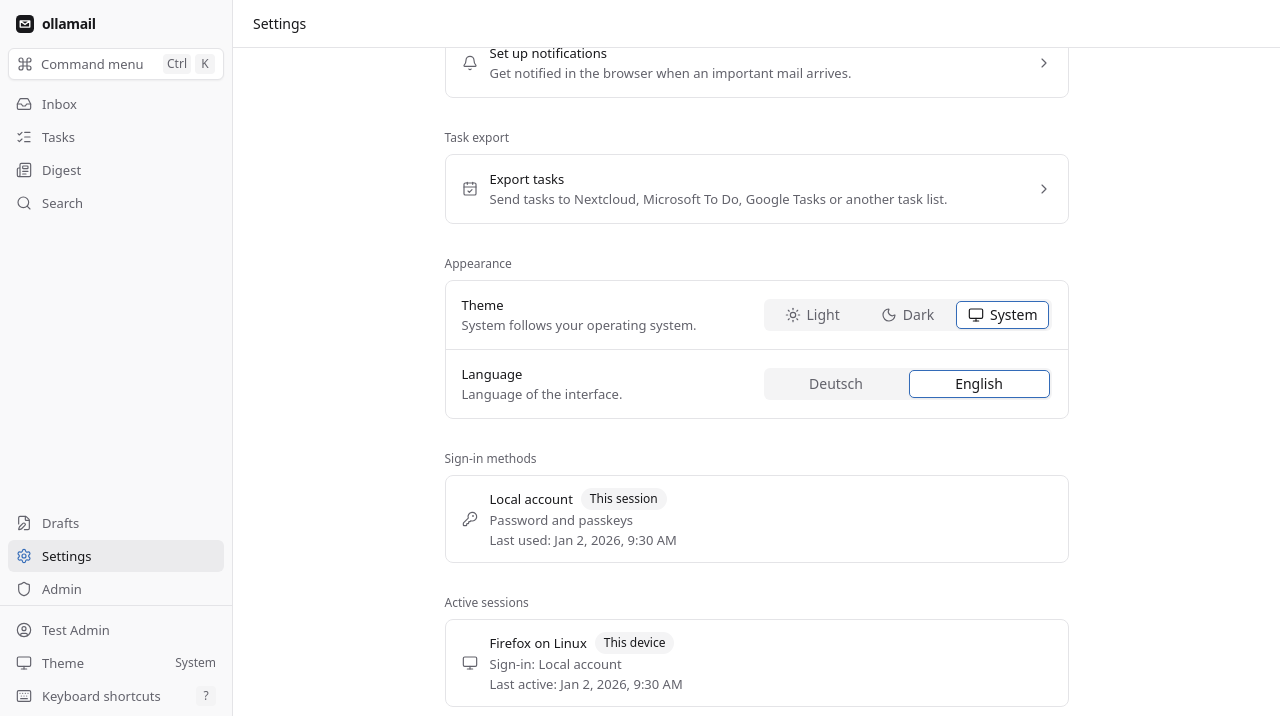
Test case: app shell › switches the language
(page scrolled)
Expected: the heading "Settings" is shown, x1=253 y1=14 x2=306 y2=34
Click the radio button labelled "Deutsch": {"x": 836, "y": 384} x1=766 y1=370 x2=906 y2=398
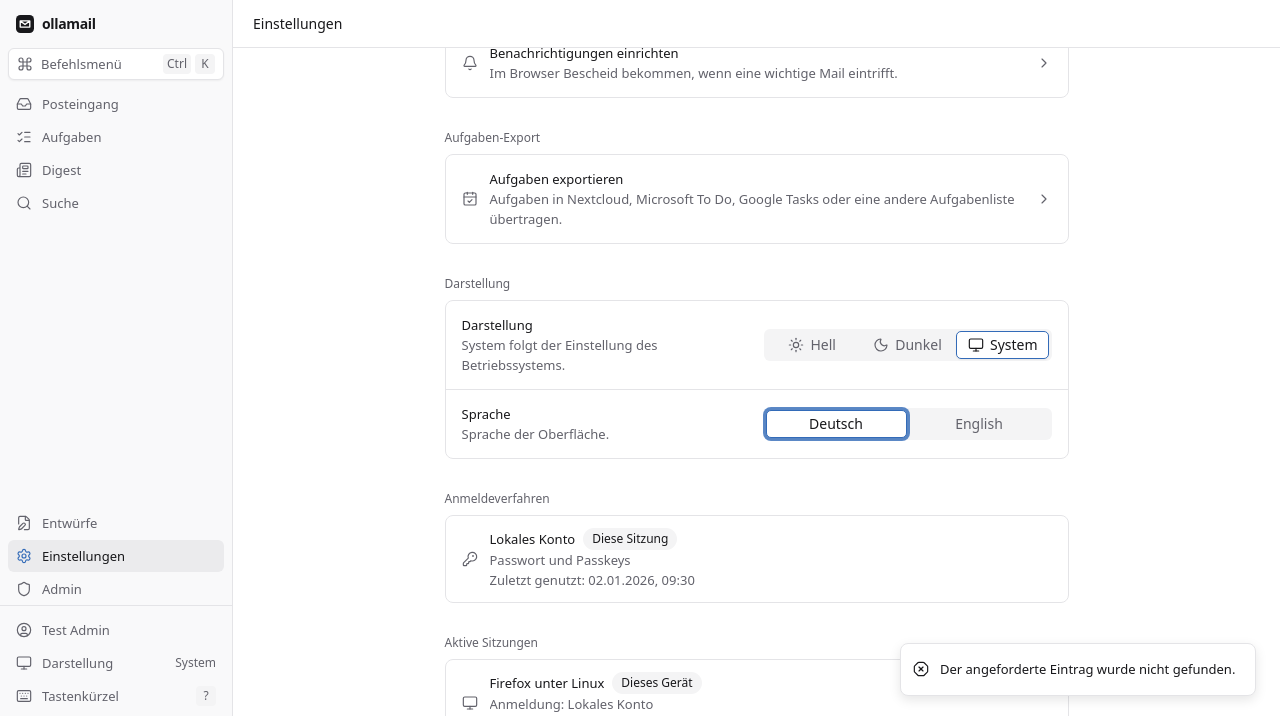
Expected: the heading "Einstellungen" is shown, x1=253 y1=14 x2=342 y2=34
